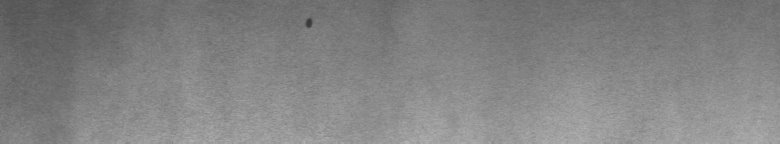fi: (301, 12, 319, 36)
